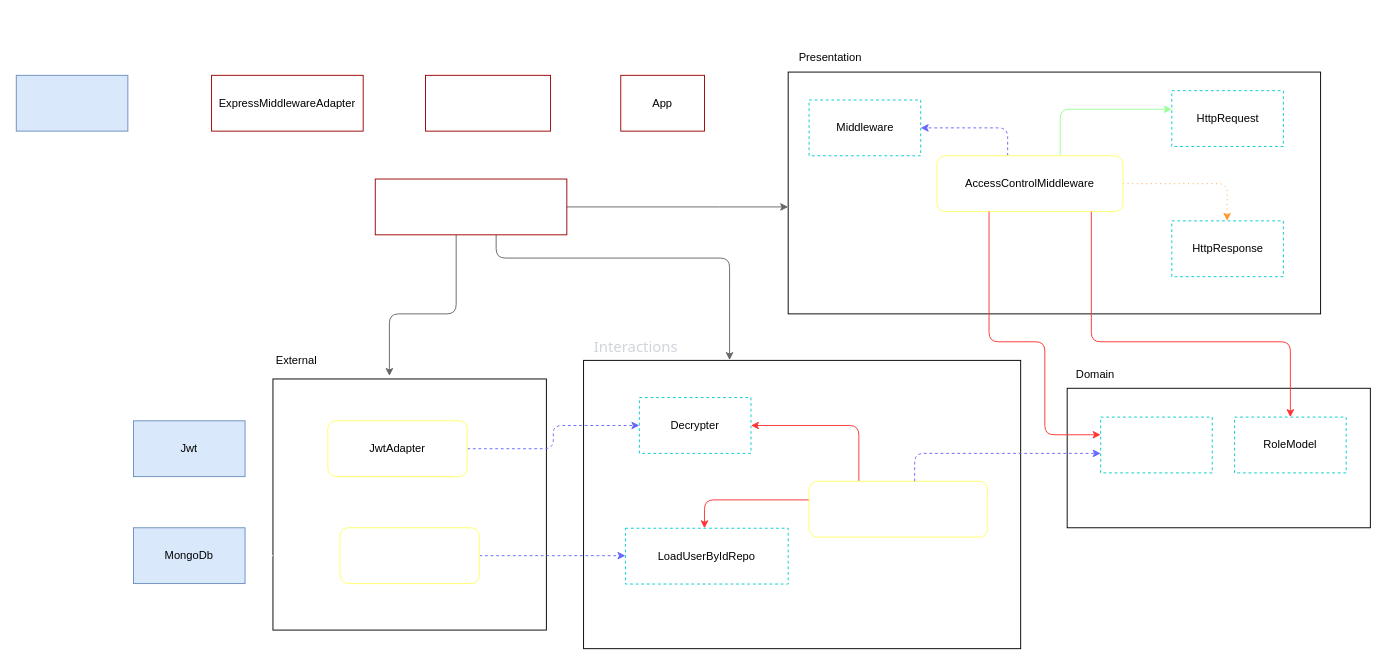
Some shapes in this 1387 by 665 pixel diagram are drawn without their labels. Each missing label, with the box of its shape:
AccessControl: (1100, 416, 1212, 473)
AccessControlMiddlewareFactory: (374, 178, 567, 235)
AccessControlUseCase: (808, 480, 988, 537)
Express: (15, 74, 128, 131)
Route: (425, 74, 551, 131)
UserMongoRepo: (339, 527, 479, 584)
